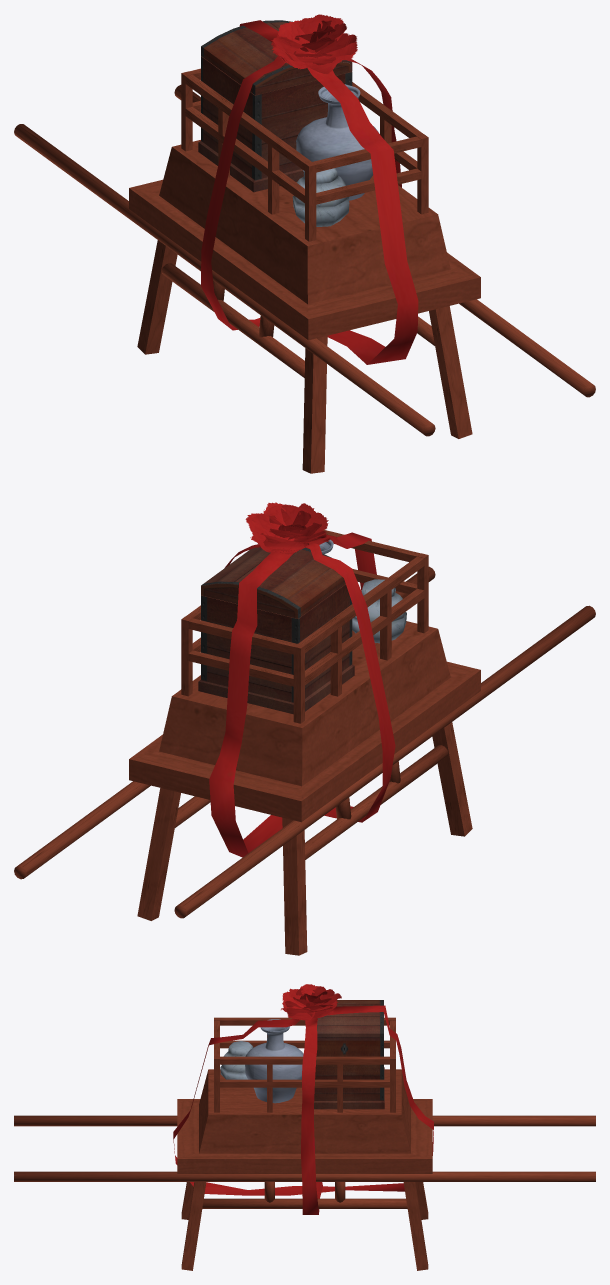
Rendered from FC_N592_B_Dowry_E.fbx.
3 renders of one model, top to bottom at view 1: azimuth 30°, elevation 25°; view 2: azimuth 150°, elevation 25°; view 3: azimuth 270°, elevation 25°, orthographic. The views are drawn at different scales.
Parts seen in each view (by area): view 1: Dowry_E; view 2: Dowry_E; view 3: Dowry_E.
Part boxes in pixels (bbox=[...]): Dowry_E: bbox=[14, 14, 595, 473]; Dowry_E: bbox=[14, 502, 595, 955]; Dowry_E: bbox=[14, 984, 595, 1270].
Bounding box in the file's own units: 70.95 × 130 × 265.
